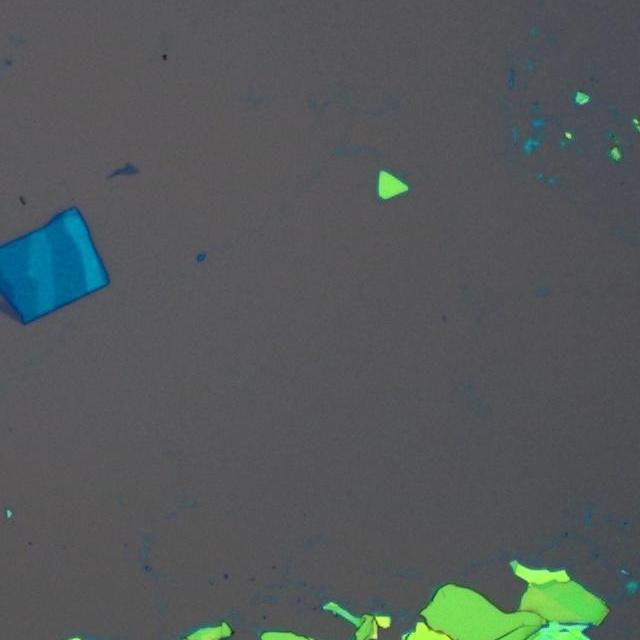monolayer-eWW4: (0, 290, 19, 322), (121, 162, 140, 174)
